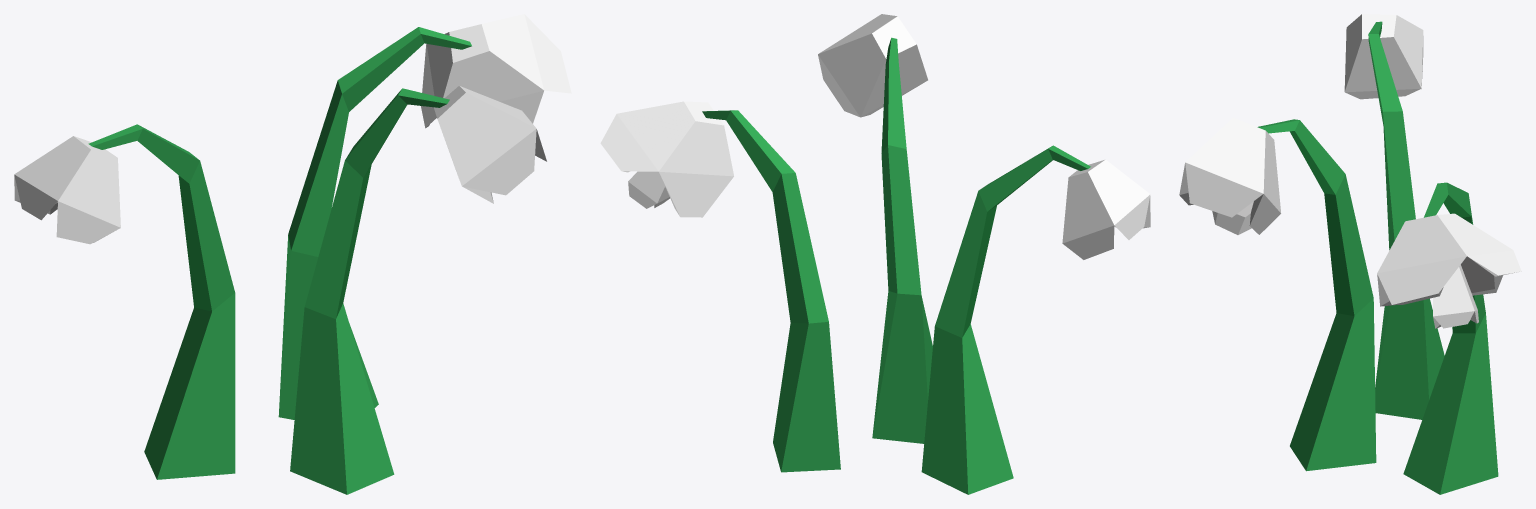
The model's file is WinterFlower.fbx.
3 renders of one model, left to right at view 1: azimuth 30°, elevation 25°; view 2: azimuth 150°, elevation 25°; view 3: azimuth 270°, elevation 25°, orthographic. The views are drawn at different scales.
Visible parts, largest first — view 1: WinterFlower; view 2: WinterFlower; view 3: WinterFlower.
Boxes of the visible parts, x1,y1,x2,y2 form: WinterFlower: (14,14,571,494); WinterFlower: (600,14,1150,494); WinterFlower: (1179,14,1521,494).
Size of the model in its own units: 0.611 by 0.4214 by 0.3556.
